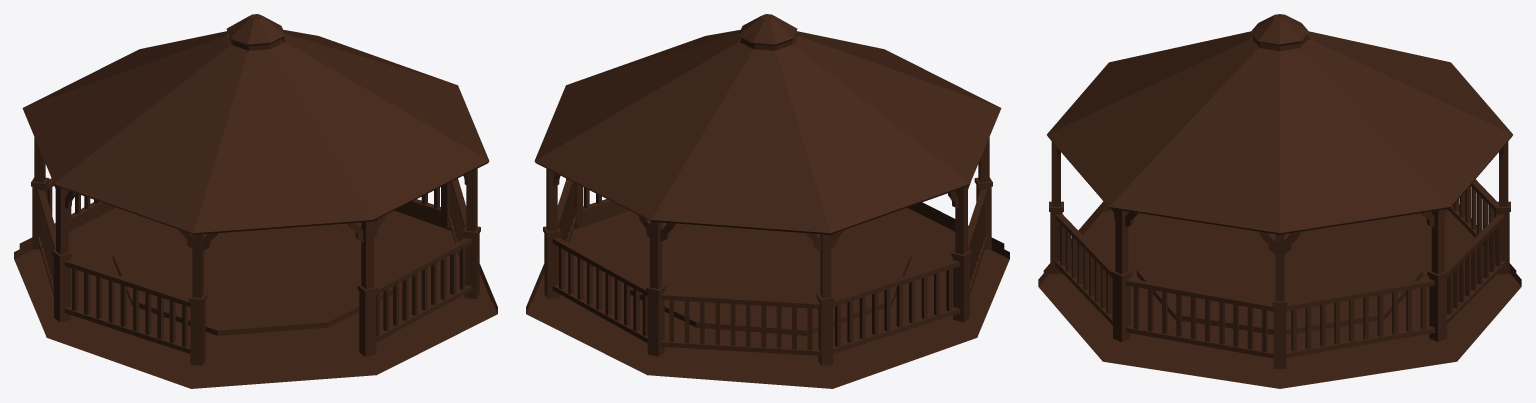
The model's file is gazebo.glb.
The picture shows the model from 3 angles, left to right: view 1: azimuth 30°, elevation 25°; view 2: azimuth 150°, elevation 25°; view 3: azimuth 270°, elevation 25°; orthographic projection.
Parts seen in each view (by area): view 1: Cube.010_0; view 2: Cube.010_0; view 3: Cube.010_0.
Boxes of the visible parts, x1,y1,x2,y2 form: Cube.010_0: [14, 14, 497, 388]; Cube.010_0: [526, 14, 1009, 388]; Cube.010_0: [1038, 14, 1521, 388].
Bounding box in the file's own units: 14.94 × 9.21 × 14.94.
